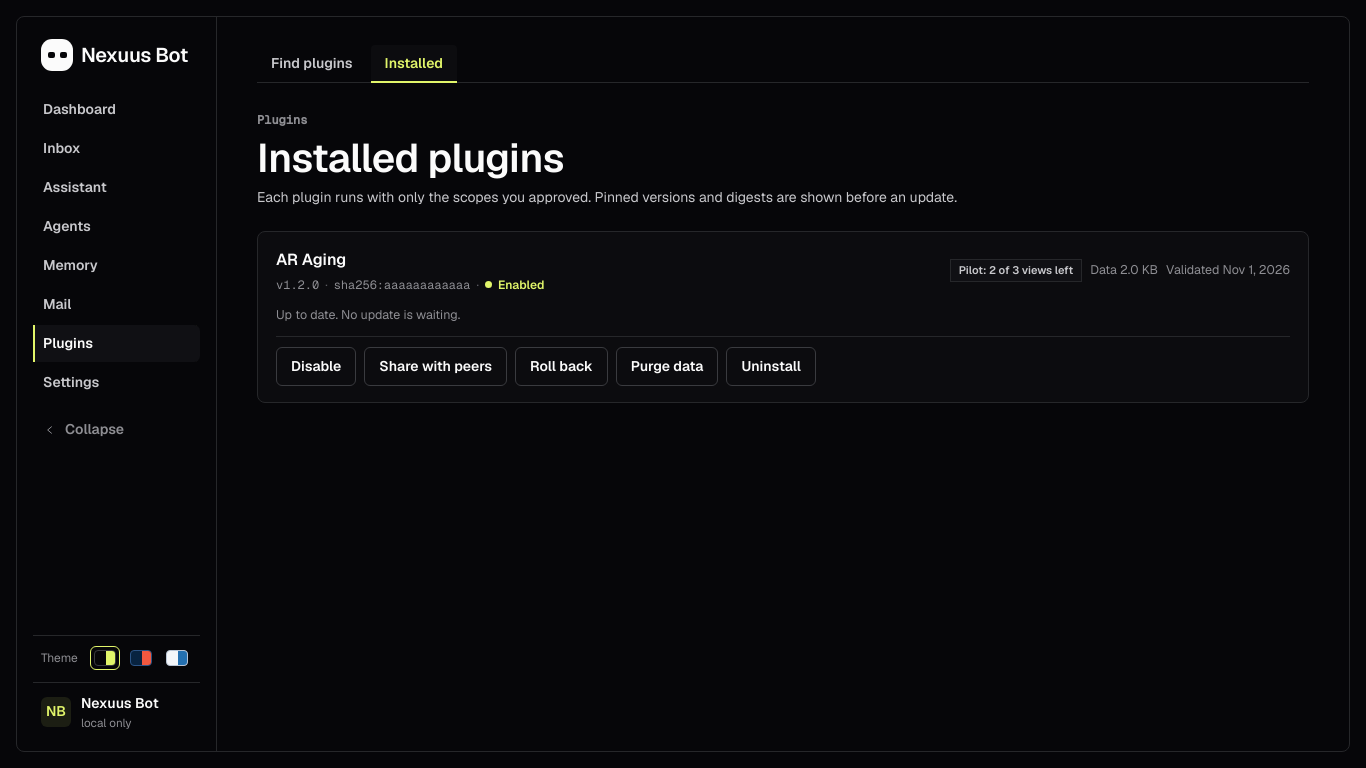
Test: the review defects › M3: reads each installed plugin detail once per installed set
This screenshot has width=1366, height=768.
expect the heading "AR Aging" is shown: met, box [276,249,346,270]
Click the button "Disable": (316, 367) [276,347,356,386]
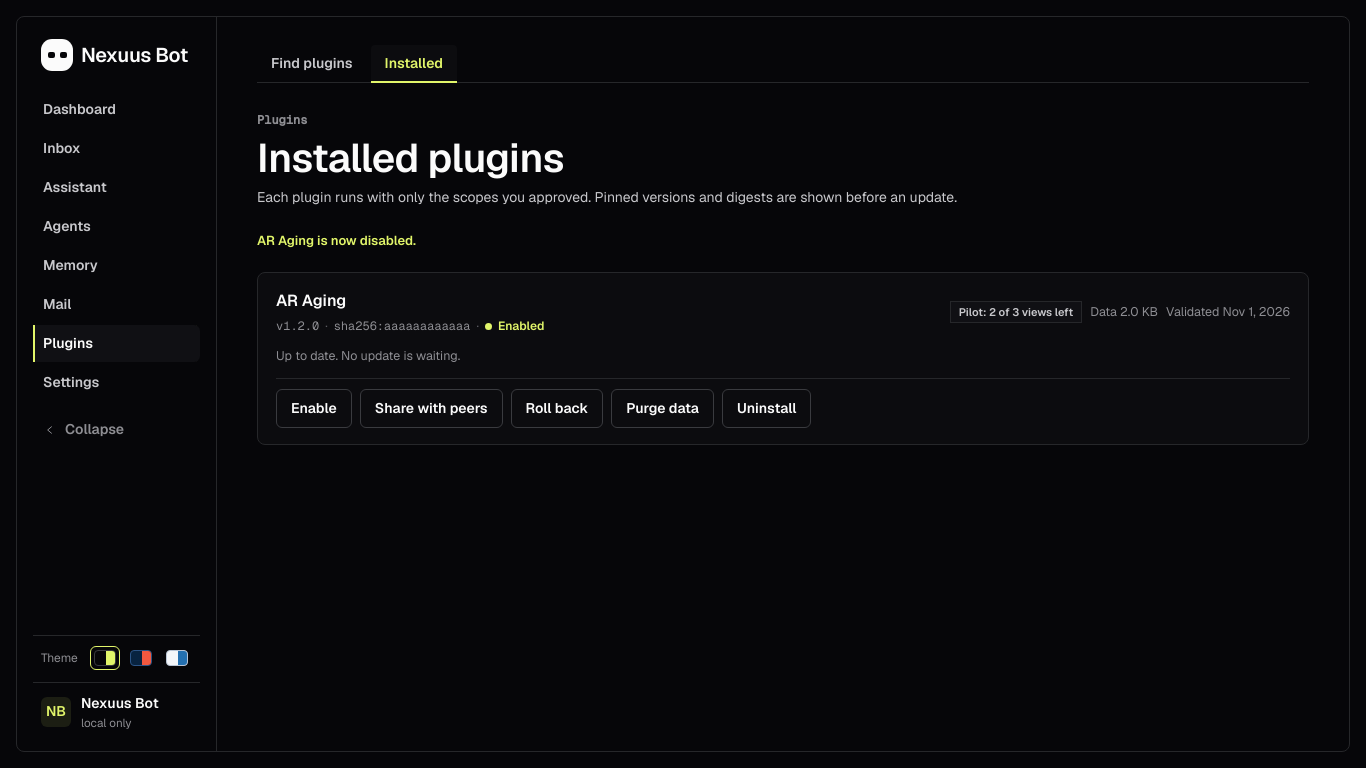
expect the text "AR Aging is now disabled." is shown: met, box [257,232,416,249]
expect the button "Enable" is shown: met, box [276,389,352,428]
